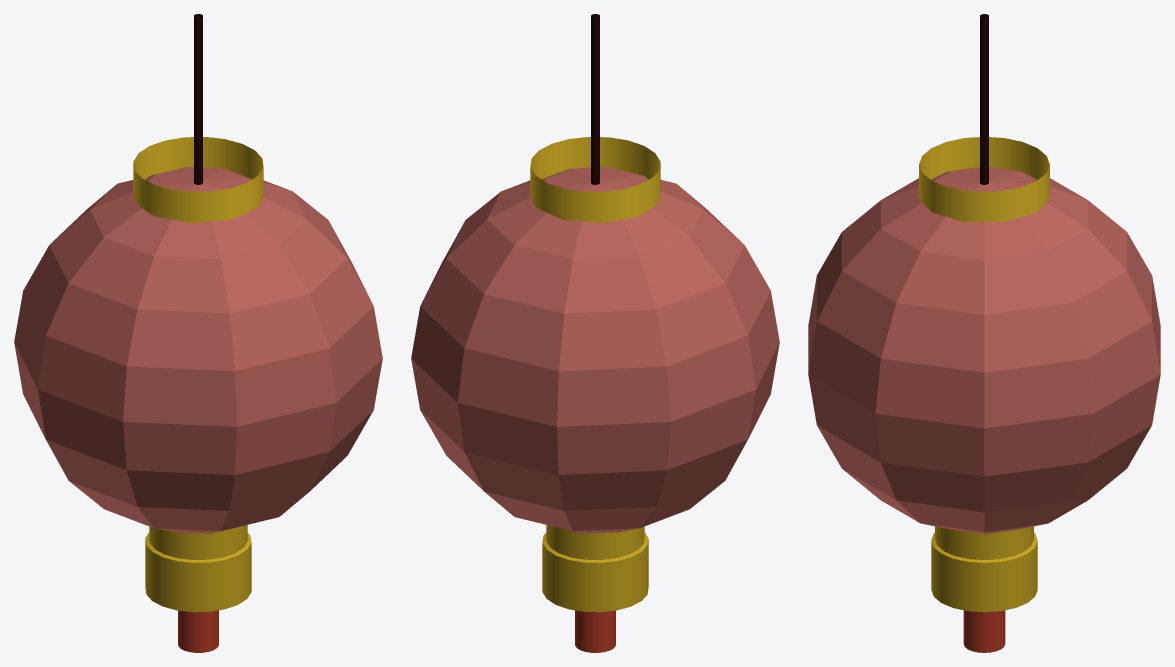
Rendered from lantern_export.fbx.
The picture shows the model from 3 angles, left to right: view 1: azimuth 30°, elevation 25°; view 2: azimuth 150°, elevation 25°; view 3: azimuth 270°, elevation 25°; orthographic projection.
Parts seen in each view (by area): view 1: lantern; view 2: lantern; view 3: lantern.
Part boxes in pixels (x1=…): lantern: x1=14, y1=14, x2=382, y2=652; lantern: x1=411, y1=14, x2=779, y2=652; lantern: x1=808, y1=14, x2=1160, y2=652.
Size of the model in its own units: 2 by 3.74 by 1.9.
